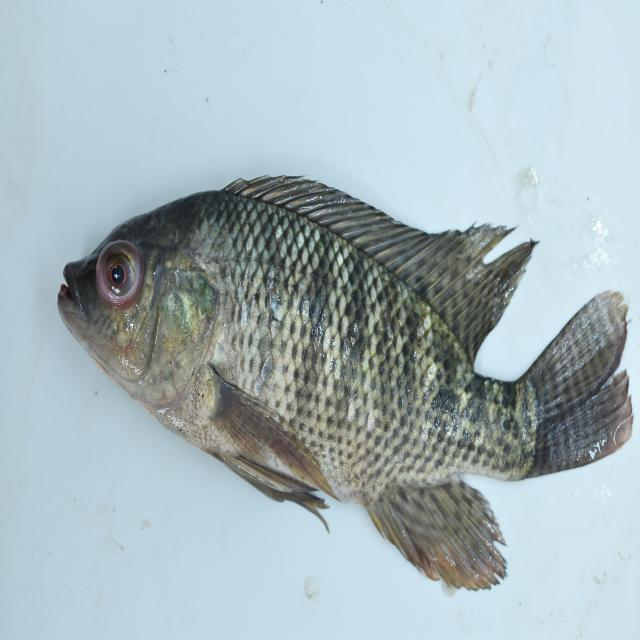Columnaris Disease: (27, 181, 633, 601)
